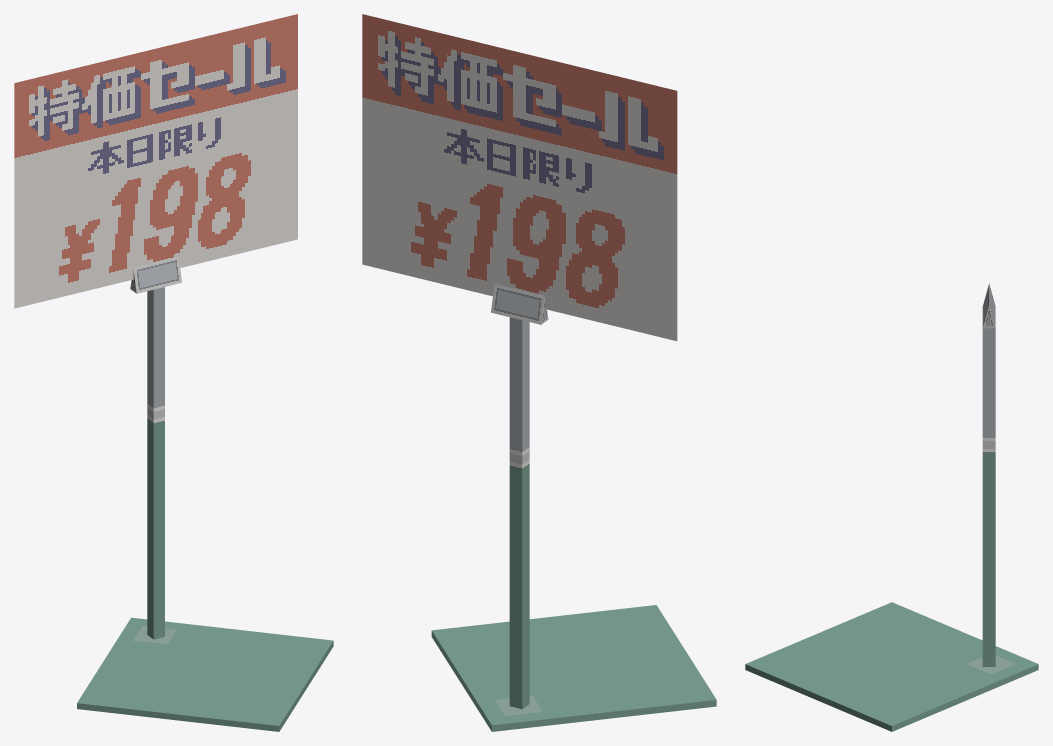
File: 03bc_Price_Tag.glb
The picture shows the model from 3 angles, left to right: view 1: azimuth 30°, elevation 25°; view 2: azimuth 150°, elevation 25°; view 3: azimuth 270°, elevation 25°; orthographic projection. The views are drawn at different scales.
Visible parts, largest first — view 1: part_0; view 2: part_0; view 3: part_0.
Boxes of the visible parts, left/top/right/bottom form: part_0: left=14, top=14, right=333, bottom=731; part_0: left=362, top=14, right=716, bottom=731; part_0: left=745, top=283, right=1038, bottom=731.
Size of the model in its own units: 0.3125 by 0.625 by 0.2828.
1 material, 1 textured.
